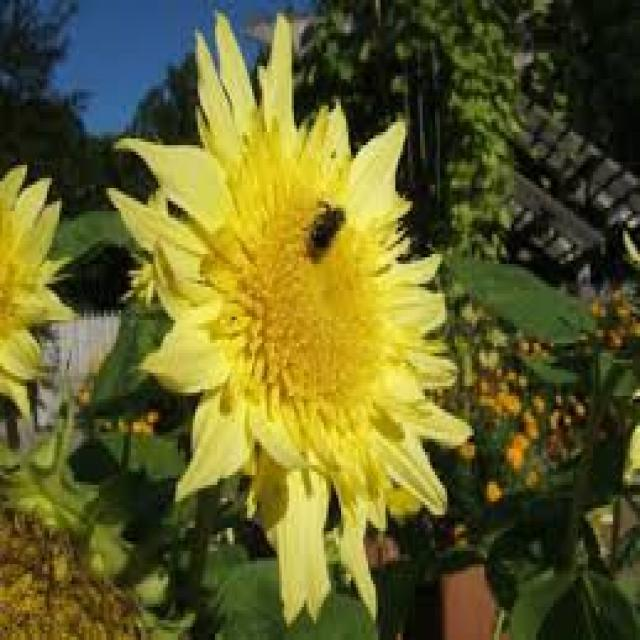sunflower: (100, 1, 478, 632)
